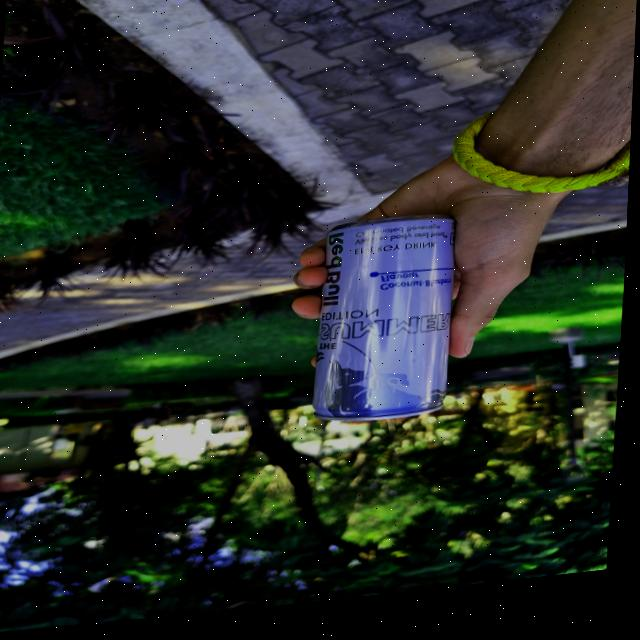Redbull Summer Edition: (317, 222, 464, 432)
